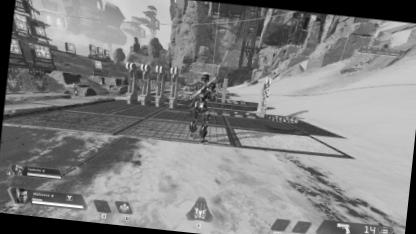Target: (186, 72, 219, 147)
